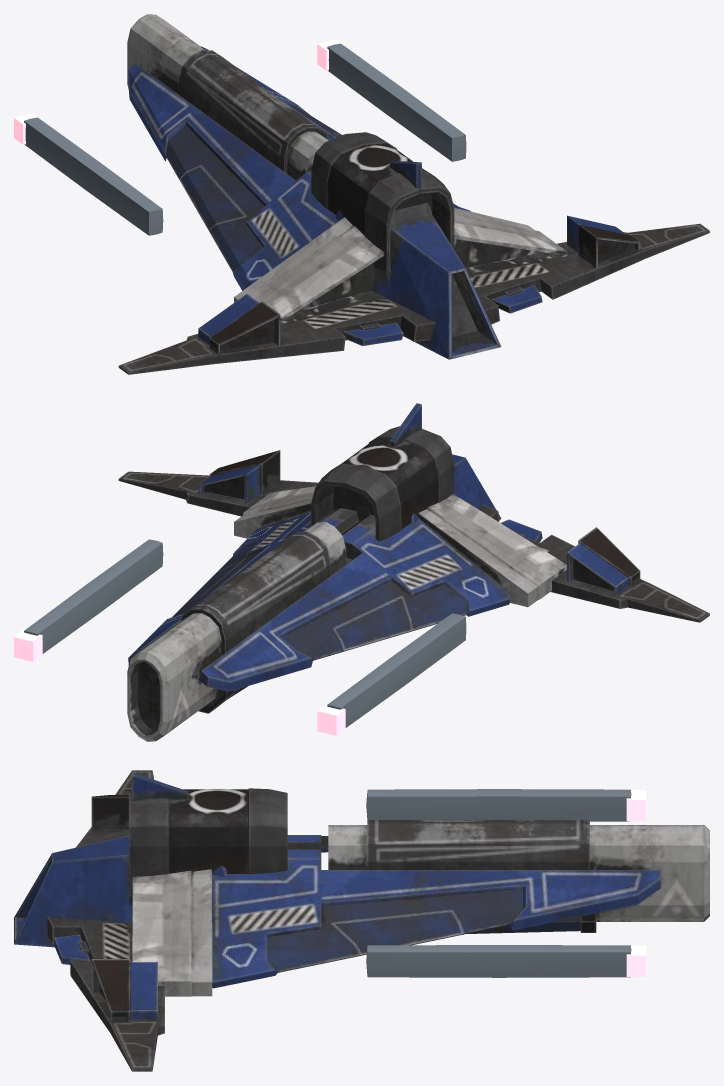
The model's file is story_corbeau.glb.
3 renders of one model, top to bottom at view 1: azimuth 30°, elevation 25°; view 2: azimuth 150°, elevation 25°; view 3: azimuth 270°, elevation 25°, orthographic. The views are drawn at different scales.
Parts seen in each view (by area): view 1: story_corbeau; view 2: story_corbeau; view 3: story_corbeau.
Part boxes in pixels (left/top/right/bottom): story_corbeau: left=14, top=14, right=709, bottom=374; story_corbeau: left=14, top=403, right=709, bottom=741; story_corbeau: left=14, top=770, right=709, bottom=1071.
Size of the model in its own units: 1.65 by 0.4049 by 1.62.
3 materials, 1 textured.
